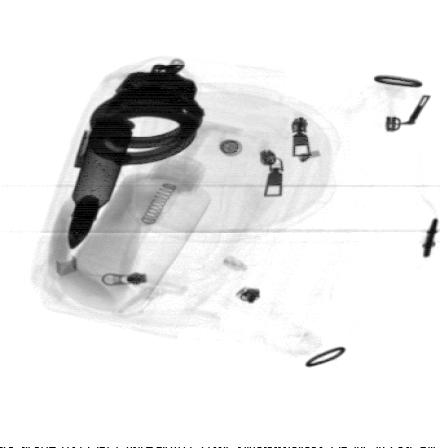Bullet: (64, 116, 137, 248)
HandCuffs: (85, 64, 208, 168)
